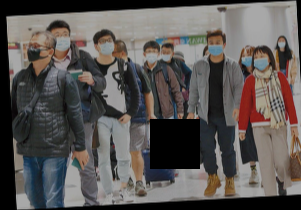with_mask: (51, 29, 70, 52), (95, 35, 114, 55), (25, 40, 41, 61), (205, 39, 223, 56), (252, 52, 269, 70), (240, 49, 254, 67), (144, 47, 157, 64), (159, 48, 172, 62), (276, 37, 287, 48)
